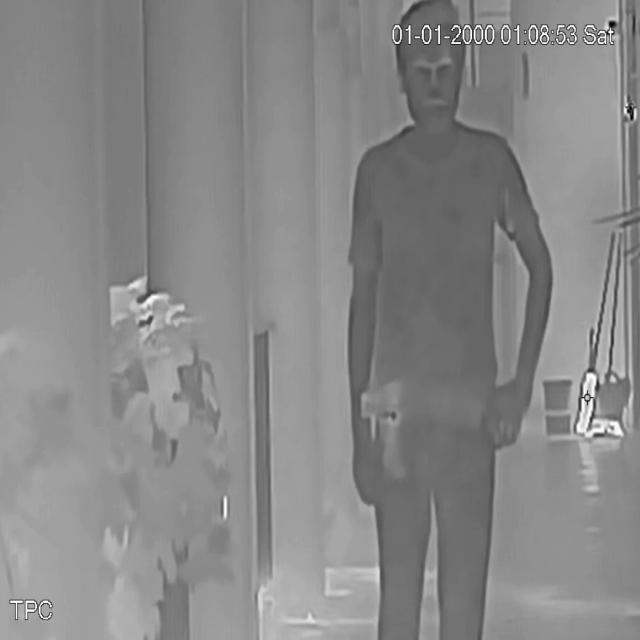Weapon: (359, 365, 424, 496)
